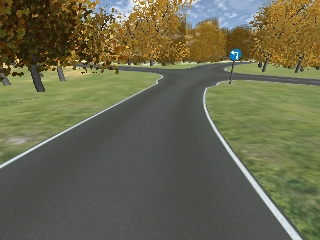left: (230, 48, 241, 61)
